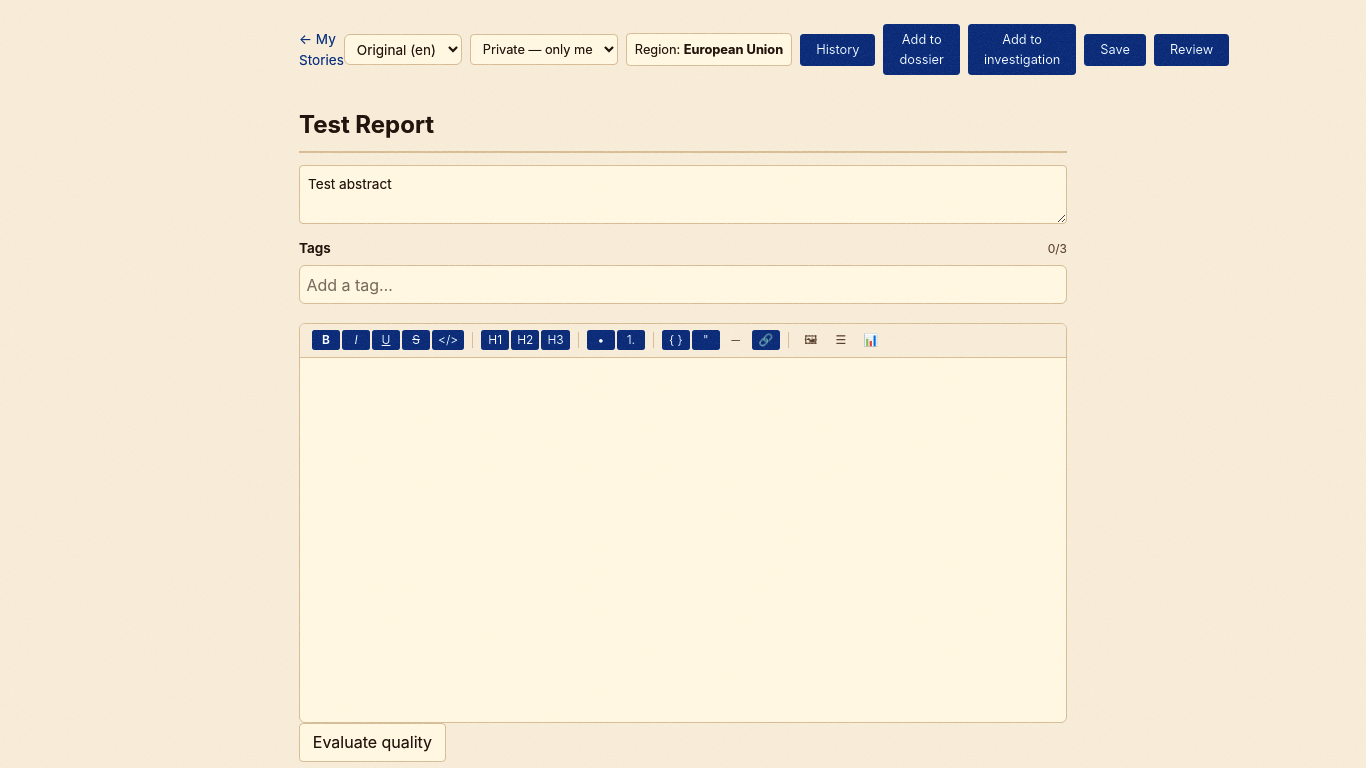
Test: ReportEditorView — unified editor › insert-widget modal lists this investigation's visualizations (dual-source)
Click the button with test id "tb-widget".
click(871, 340)  # box left=857, top=330, right=885, bottom=350
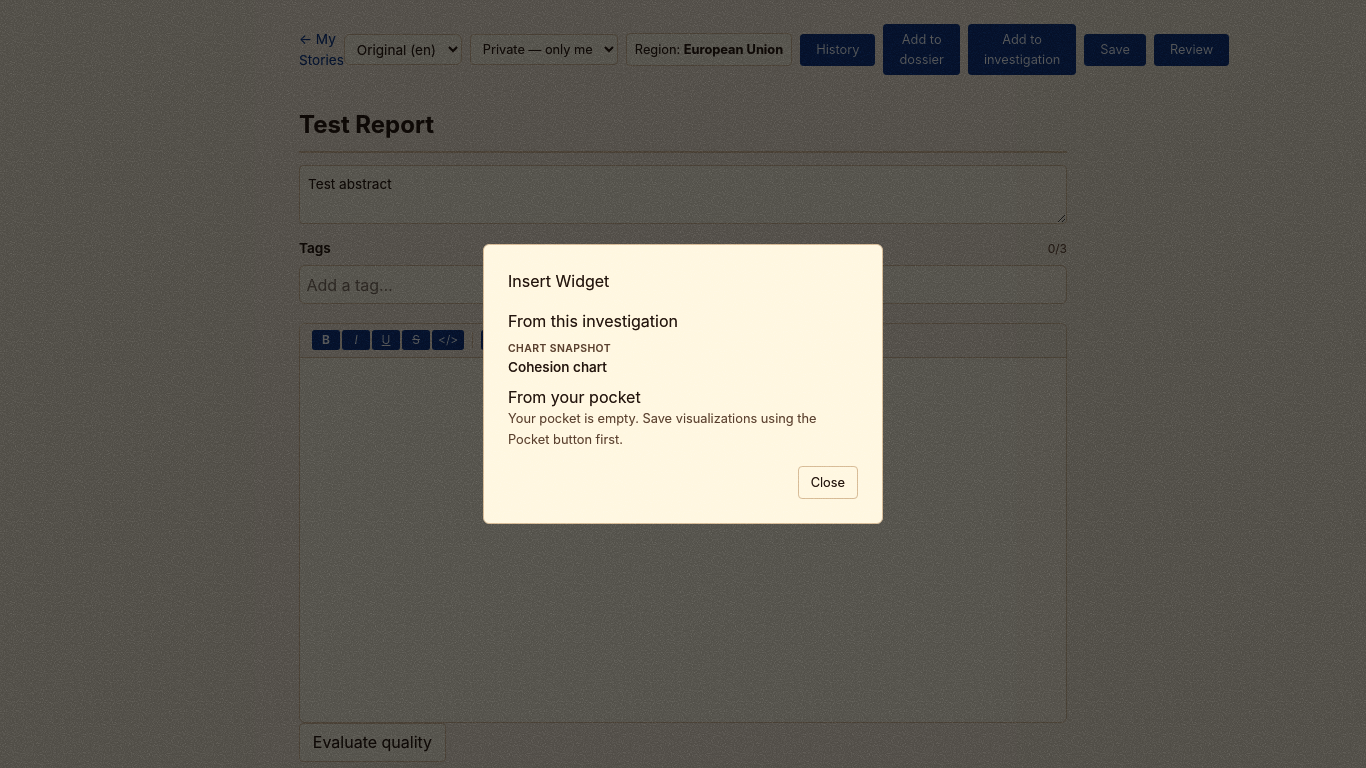
Result: the list item with test id "inv-viz-item-v1" is shown at left=508, top=342, right=611, bottom=375
Result: the text "Cohesion chart" is shown at left=508, top=359, right=607, bottom=375
